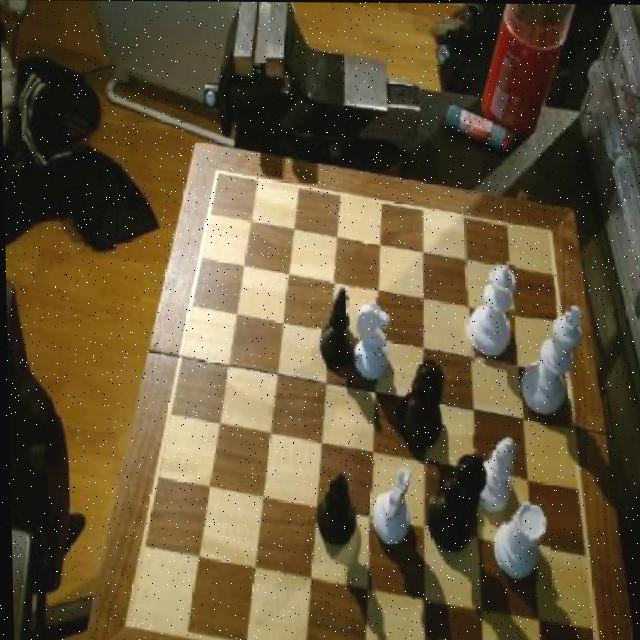bishop: (314, 280, 354, 371), (312, 469, 354, 550)
black-bishop: (420, 447, 491, 551)
black-pawn: (391, 356, 446, 453)
black-rook: (470, 431, 520, 517)
white-bishop: (513, 304, 584, 418)
white-king: (365, 462, 413, 549), (345, 297, 391, 385)
white-pawn: (462, 262, 520, 361)
white-queen: (485, 498, 548, 586)
